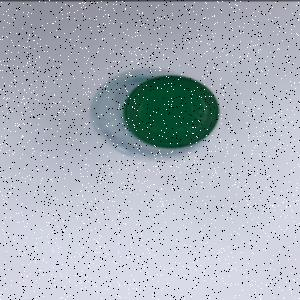Plastic-bottle: (89, 67, 222, 163)
